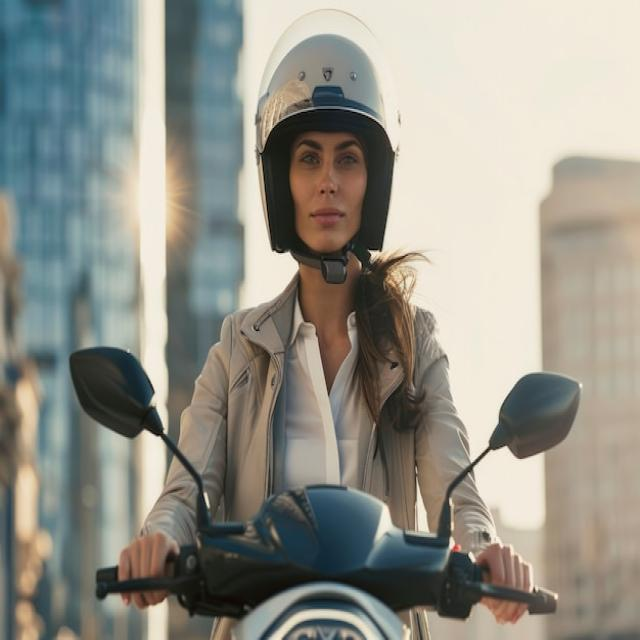3-4-helmet: (257, 10, 401, 255)
